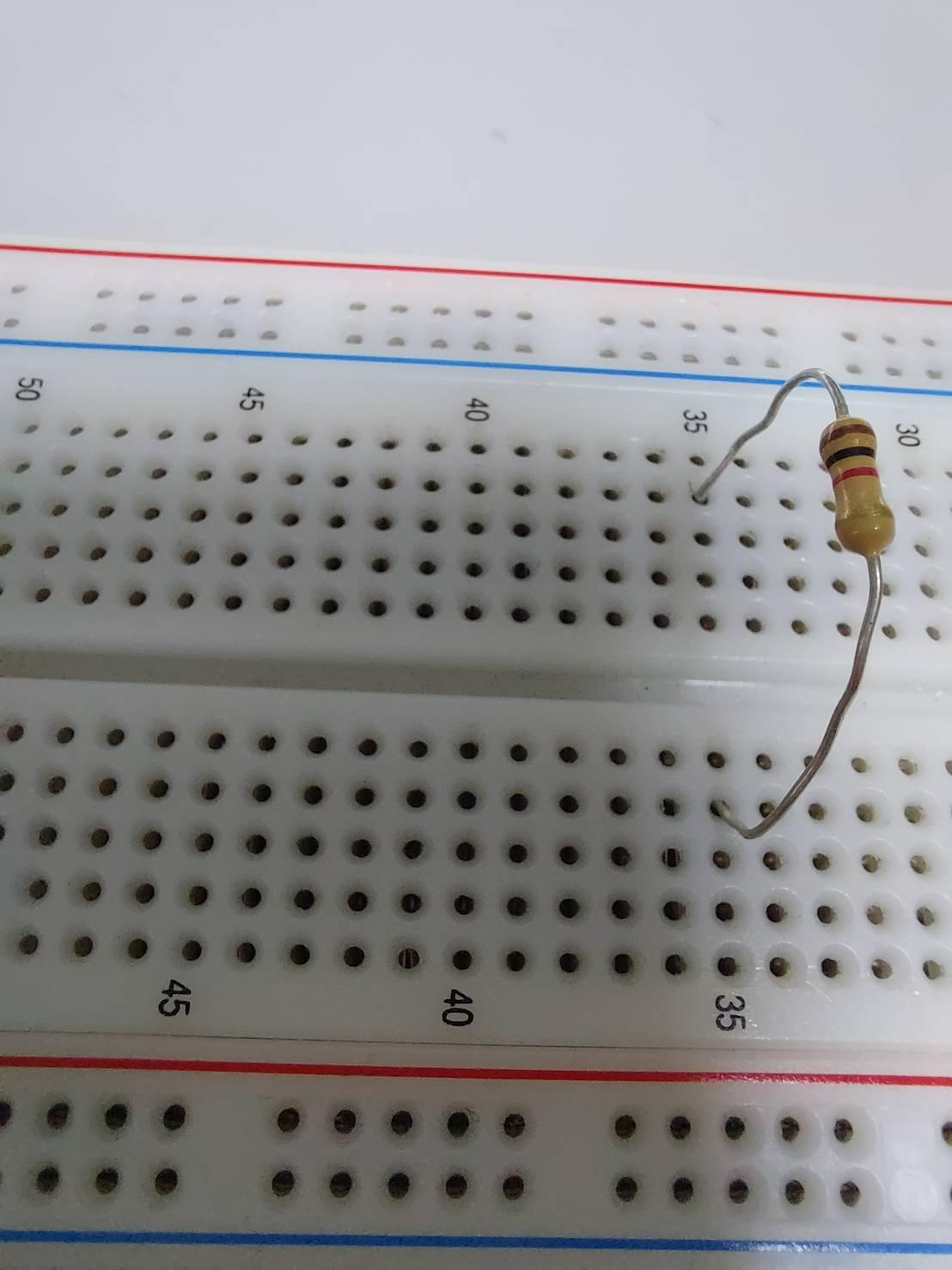resistor: (814, 413, 898, 564)
